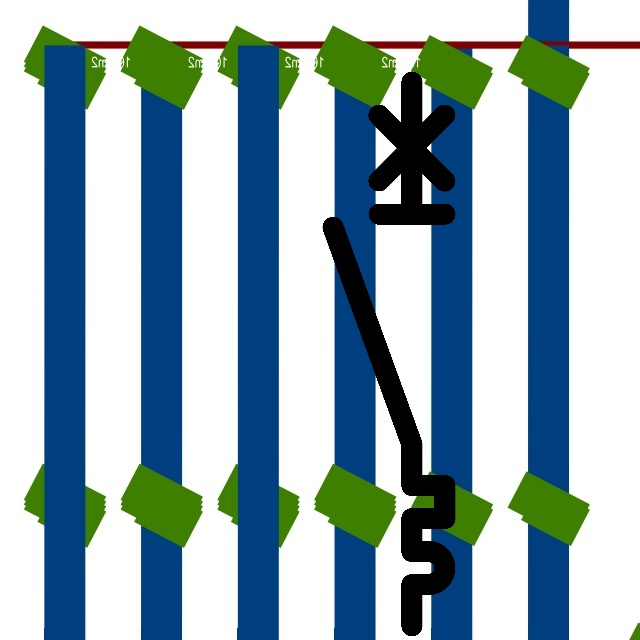interruptor_termomagnetico: (319, 68, 459, 640)
